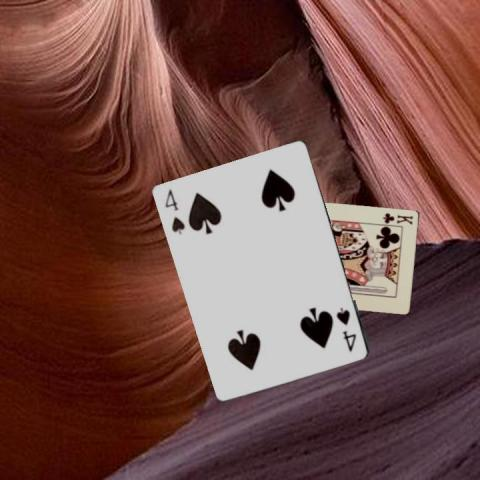4s: (162, 186, 187, 236), (333, 304, 358, 353)
Kc: (380, 210, 414, 226)
